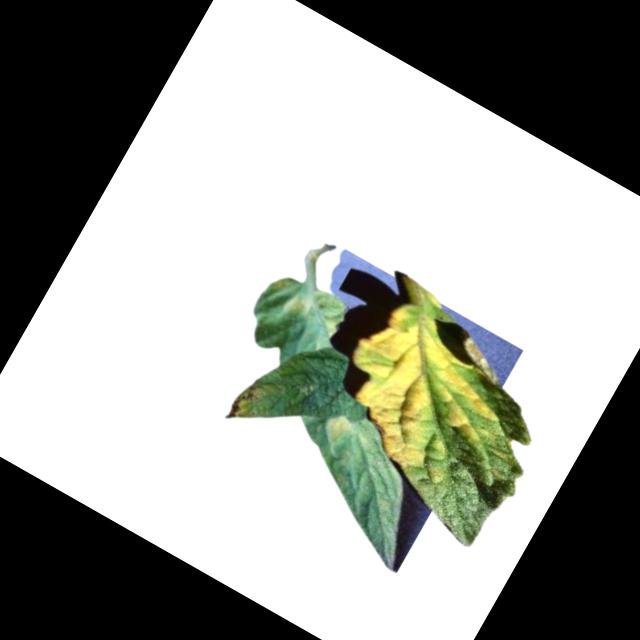Leaf_Mold: (316, 289, 557, 512), (223, 371, 280, 435), (320, 410, 376, 459)
